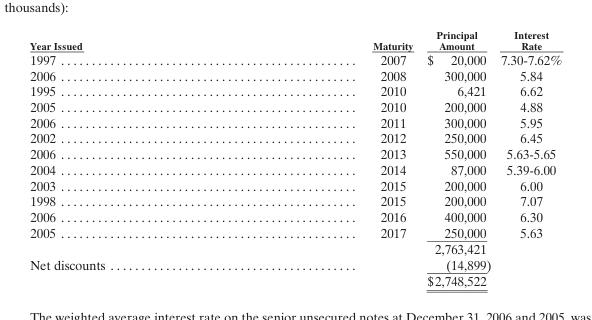table: (29, 28, 561, 288)
table column: (29, 28, 238, 288), (238, 28, 419, 288), (419, 28, 495, 288), (495, 28, 561, 288)
table column header: (29, 28, 561, 51)
table row: (29, 28, 561, 51), (29, 51, 561, 67), (29, 82, 561, 98), (29, 98, 561, 114), (29, 114, 561, 130), (29, 145, 561, 161), (29, 161, 561, 177), (29, 192, 561, 208), (29, 208, 561, 224), (29, 224, 561, 240), (29, 240, 561, 256), (29, 256, 561, 272), (29, 272, 561, 288), (29, 67, 561, 82), (29, 130, 561, 145), (29, 177, 561, 192)
